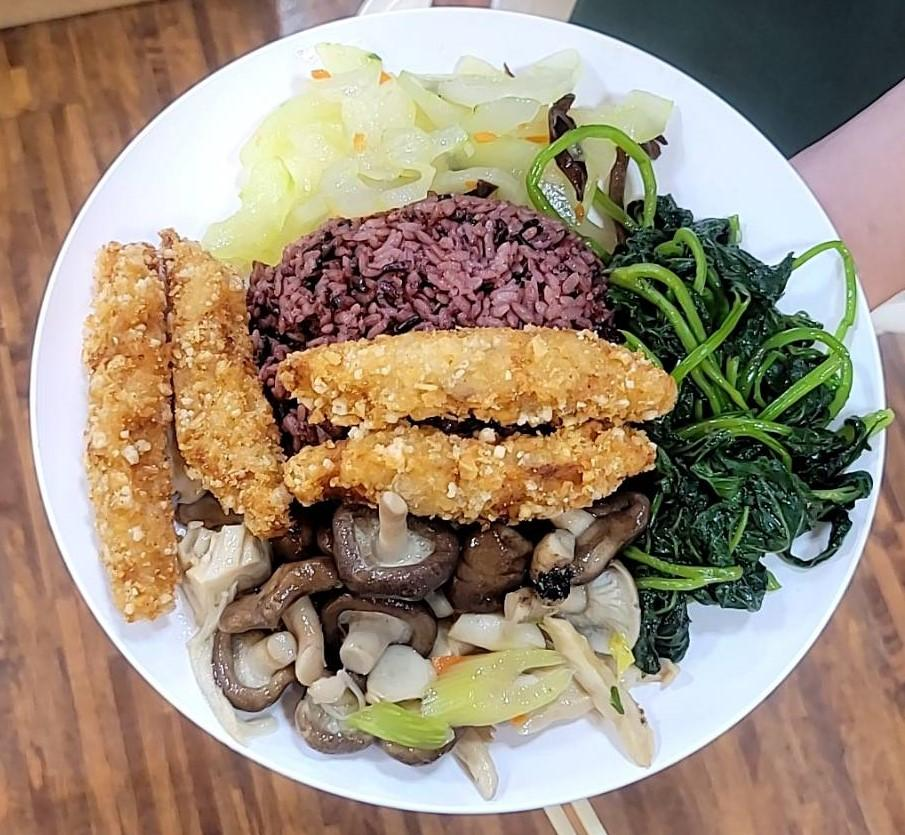big fried chicken leg: (18, 8, 897, 820)
braised fish: (240, 200, 631, 514)
braised fish fillet: (193, 484, 672, 799), (608, 184, 887, 668), (218, 39, 684, 260)
braised pork: (76, 206, 293, 623), (269, 324, 680, 518)
